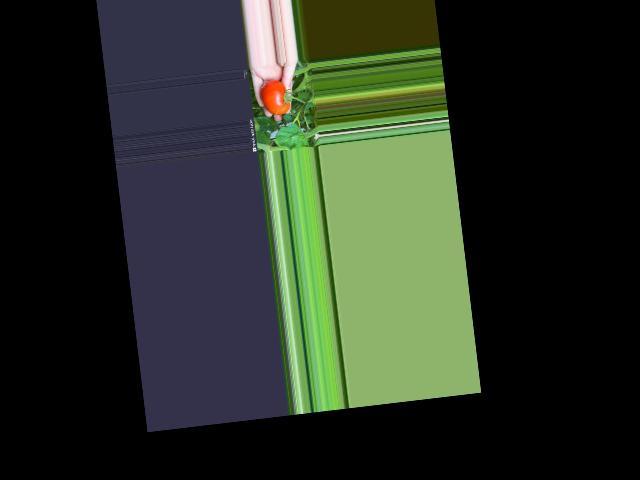tomato: (259, 77, 290, 116)
